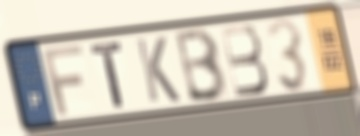3: (266, 15, 311, 95)
B: (173, 25, 230, 104), (218, 22, 272, 100)
F: (40, 42, 86, 118)
K: (132, 34, 183, 105)
T: (88, 39, 128, 111)
